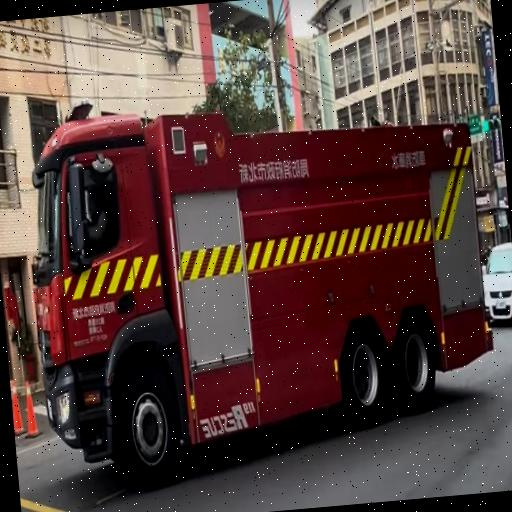fire truck: (12, 48, 505, 496)
